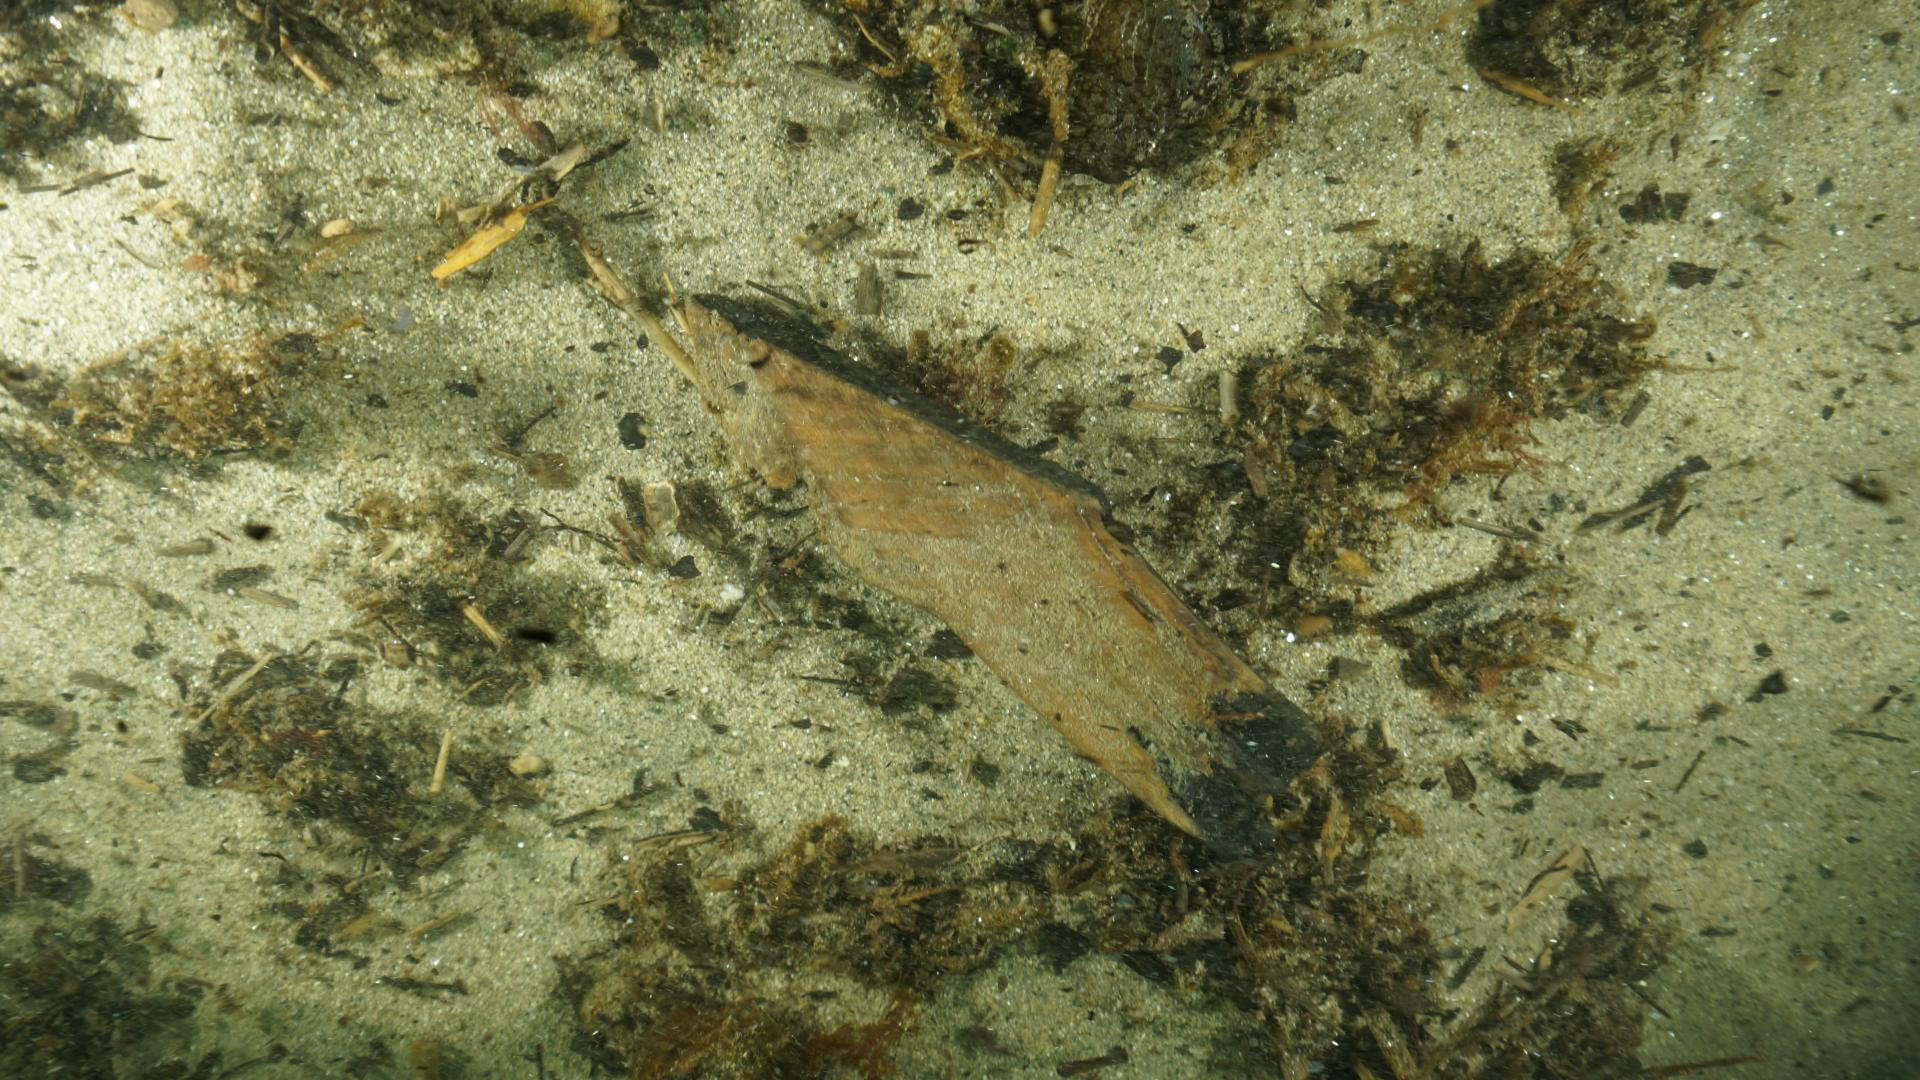wood: (678, 287, 1287, 843)
